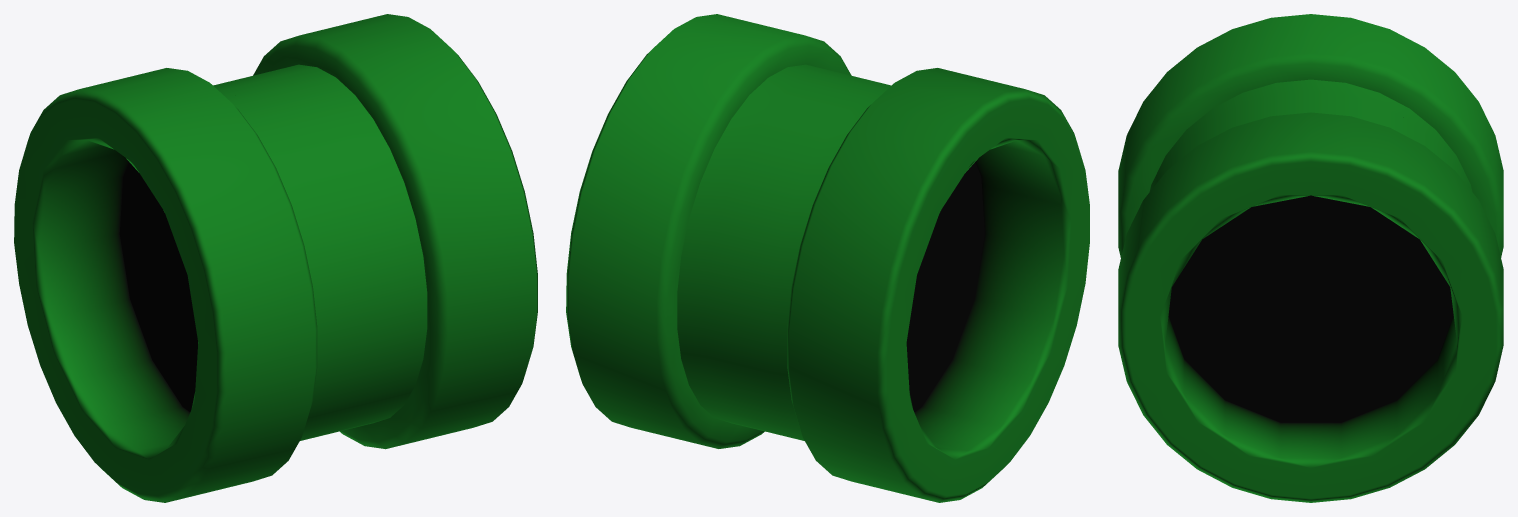
Rendered from DokanJA_Prefab.fbx.
3 views of the same model, side by side, from view 1: azimuth 30°, elevation 25°; view 2: azimuth 150°, elevation 25°; view 3: azimuth 270°, elevation 25° (orthographic). The views are drawn at different scales.
Visible parts, largest first — view 1: DokanJA0_Body_LOD0, DokanJA1_Body_LOD0, DokanJA2_Body_LOD0; view 2: DokanJA0_Body_LOD0, DokanJA1_Body_LOD0, DokanJA2_Body_LOD0; view 3: DokanJA1_Body_LOD0, DokanJA0_Body_LOD0, DokanJA2_Body_LOD0.
Boxes of the visible parts, x1,y1,x2,y2 form: DokanJA0_Body_LOD0: [14, 68, 335, 502]; DokanJA1_Body_LOD0: [253, 14, 537, 449]; DokanJA2_Body_LOD0: [213, 71, 399, 440]; DokanJA0_Body_LOD0: [769, 68, 1089, 502]; DokanJA1_Body_LOD0: [566, 14, 851, 448]; DokanJA2_Body_LOD0: [705, 71, 891, 440]; DokanJA1_Body_LOD0: [1118, 112, 1503, 502]; DokanJA0_Body_LOD0: [1118, 14, 1503, 257]; DokanJA2_Body_LOD0: [1160, 92, 1461, 178].
Size of what is drawn, in the model's own units: 5.01 by 5.7 by 5.67.
